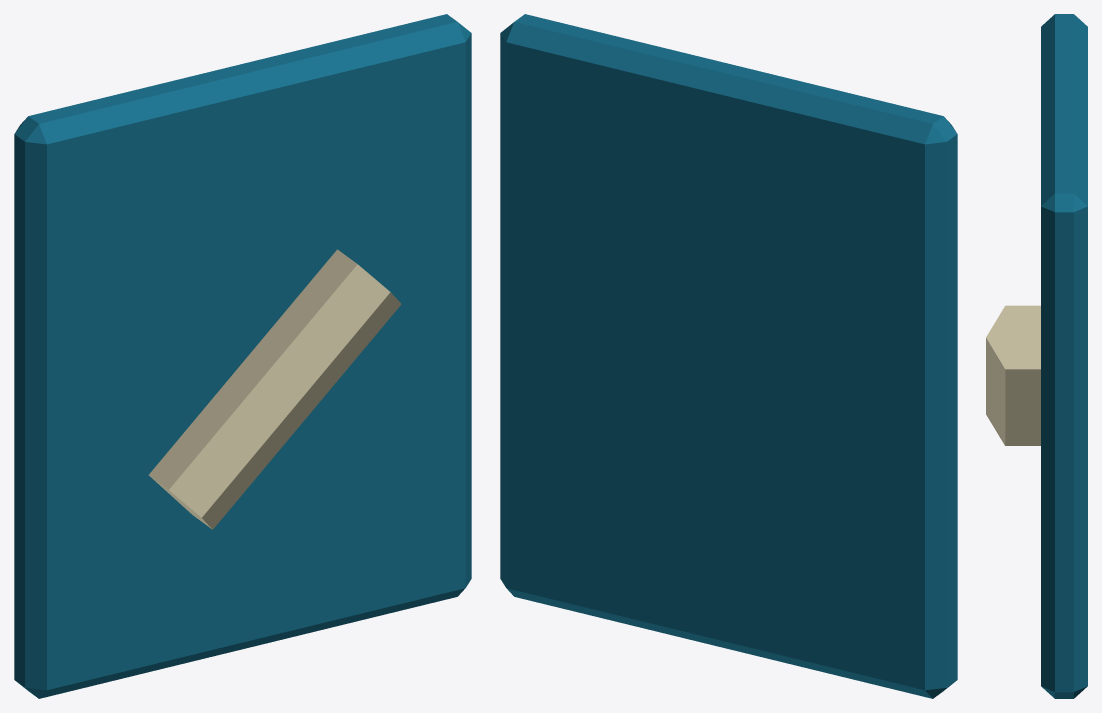
Rendered from BackMark.glb.
The picture shows the model from 3 angles, left to right: view 1: azimuth 30°, elevation 25°; view 2: azimuth 150°, elevation 25°; view 3: azimuth 270°, elevation 25°; orthographic projection. The views are drawn at different scales.
Visible parts, largest first — view 1: geometry_0; view 2: geometry_0; view 3: geometry_0.
Boxes of the visible parts, x1=… form: geometry_0: x1=14, y1=14, x2=471, y2=698; geometry_0: x1=500, y1=14, x2=957, y2=698; geometry_0: x1=986, y1=14, x2=1087, y2=698.
Size of the model in its own units: 0.26 by 0.32 by 0.0585.
